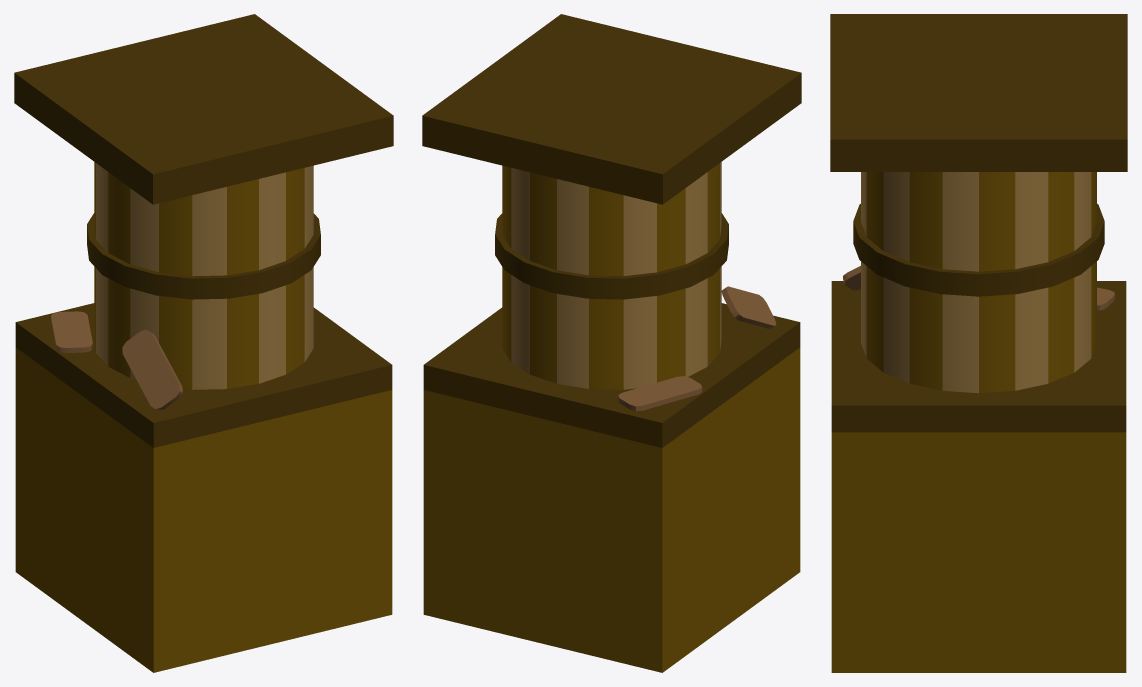
The model's file is Column.fbx.
3 views of the same model, side by side, from view 1: azimuth 30°, elevation 25°; view 2: azimuth 150°, elevation 25°; view 3: azimuth 270°, elevation 25° (orthographic). The views are drawn at different scales.
Parts seen in each view (by area): view 1: polySurface55; view 2: polySurface55; view 3: polySurface55.
Part boxes in pixels (x1,y1,x2,y2): polySurface55: (14,14,393,672); polySurface55: (422,14,801,672); polySurface55: (830,14,1127,672).
Bounding box in the file's own units: 1.01 × 2 × 1.01.
